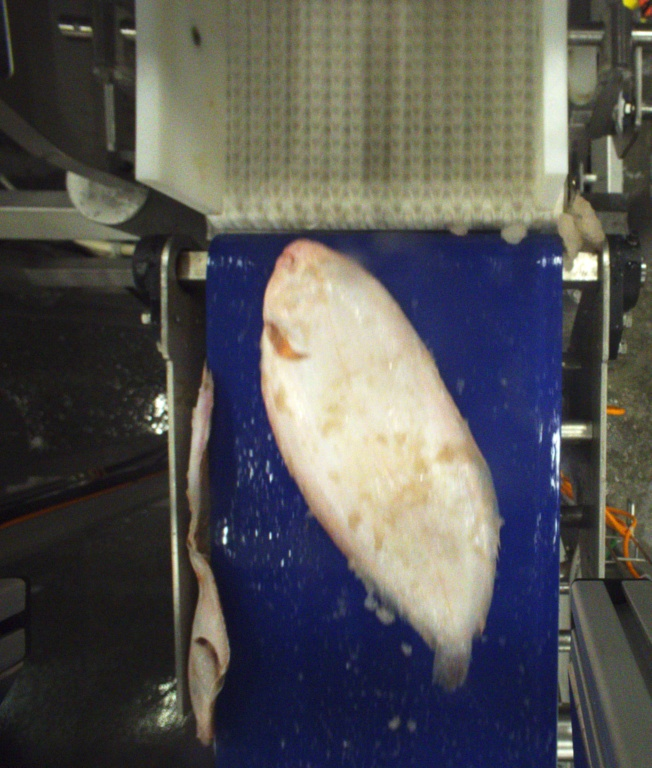SOL: (261, 233, 502, 693)
